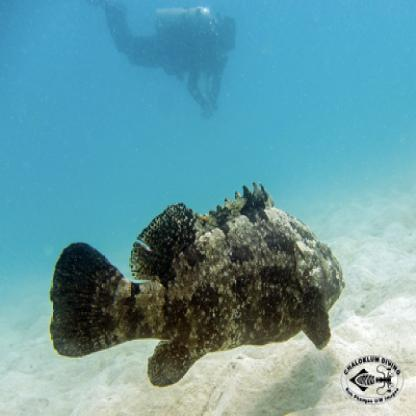Serranidae -Groupers-: (48, 180, 346, 389)
